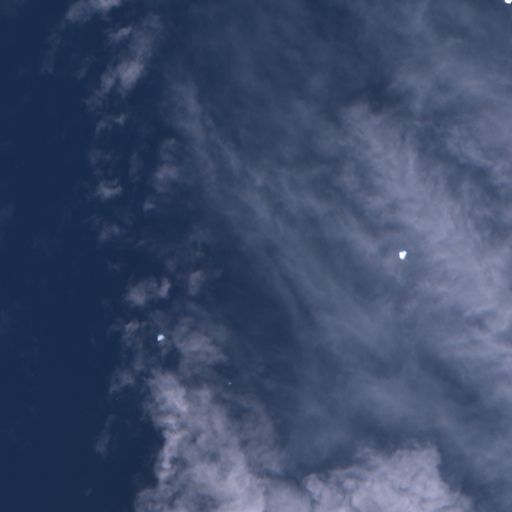Iceberg: (399, 251, 406, 259), (157, 334, 164, 340), (504, 0, 511, 3), (229, 382, 231, 384)
